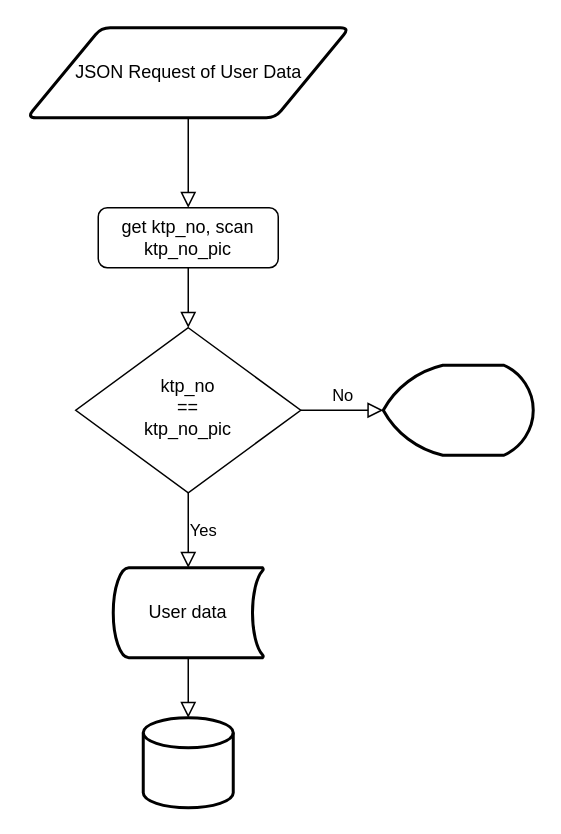
Image size: 561x834. Some labels were removed from this diagram. Here are the shapes that lost their labels. From the top down, the centre of each, then its label:
At [457,409]: "registration failed".
At [187,762]: "DB".
